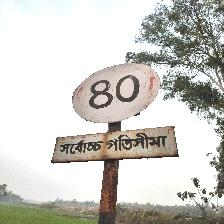Speed-limit: (53, 61, 174, 163)
